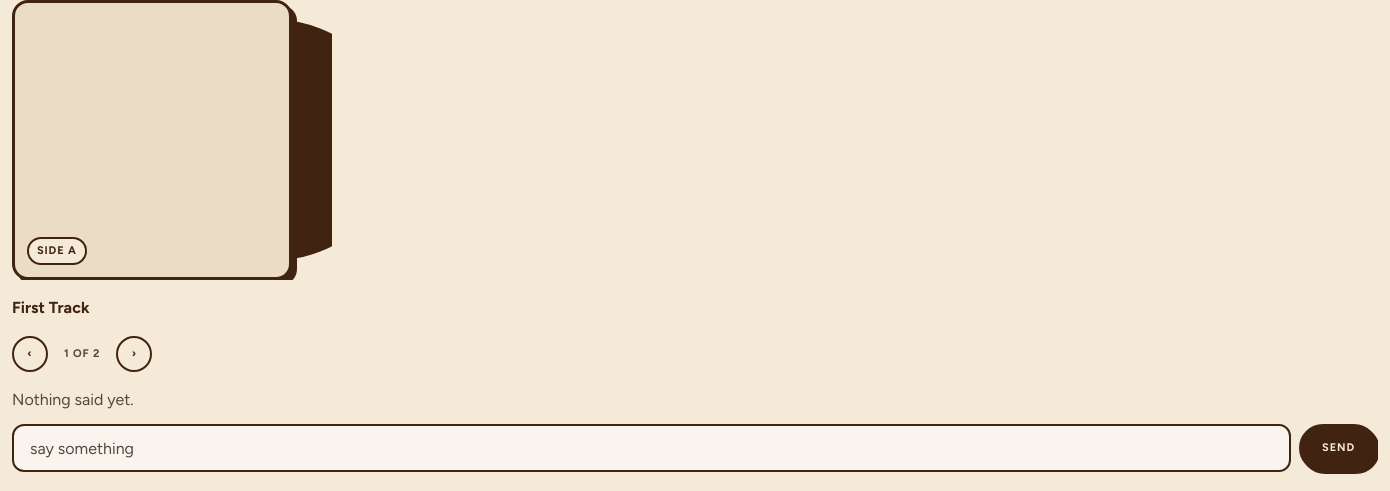
Test: Sleeve › flips to the next and previous record by button
The width and height of the screenshot is (1390, 491).
Expected: the text "First Track" is shown, top-left (12, 298), bottom-right (90, 317)
Click the button named "Next record": (134, 354) top-left (116, 336), bottom-right (152, 372)
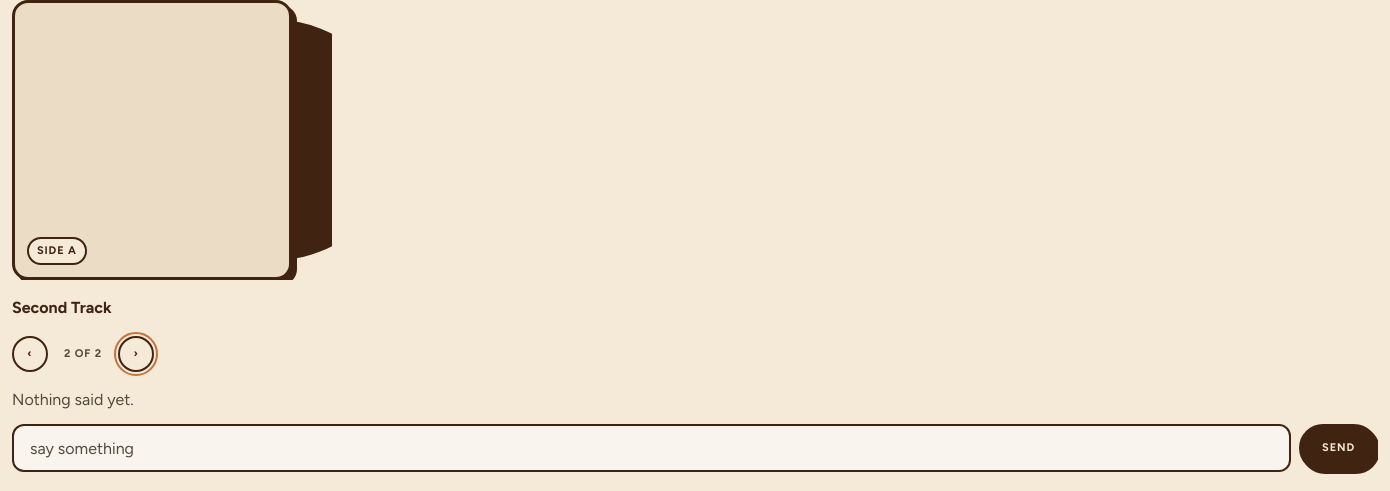
Now the text "Second Track" is shown, box top-left (12, 298), bottom-right (112, 317)
Click the button named "Previous record": (30, 354) top-left (12, 336), bottom-right (48, 372)
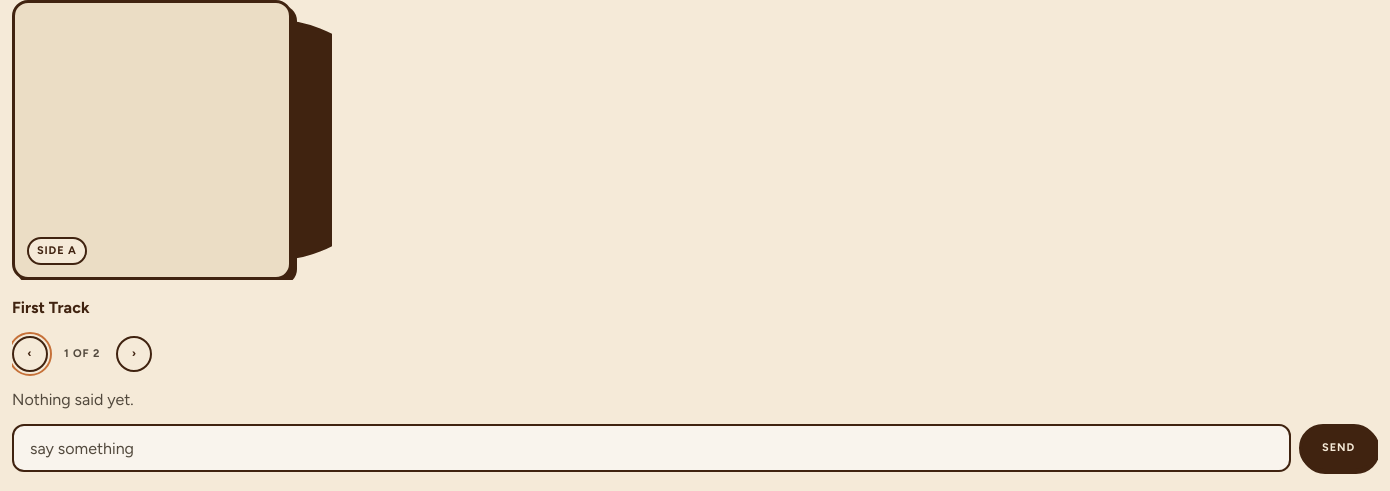
Now the text "First Track" is shown, box top-left (12, 298), bottom-right (90, 317)
